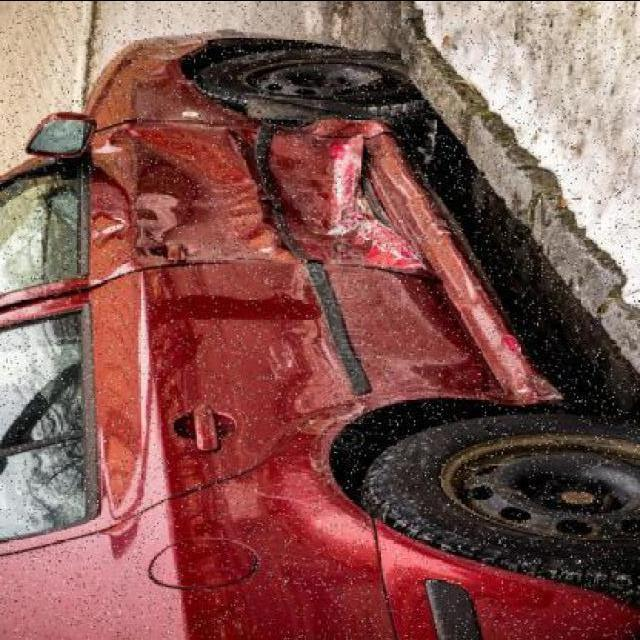RunningBoard-Dent: (451, 286, 555, 402), (409, 167, 480, 268)
doorouter-dent: (94, 273, 451, 521), (91, 123, 395, 267)
fender-dent: (102, 46, 256, 122)
